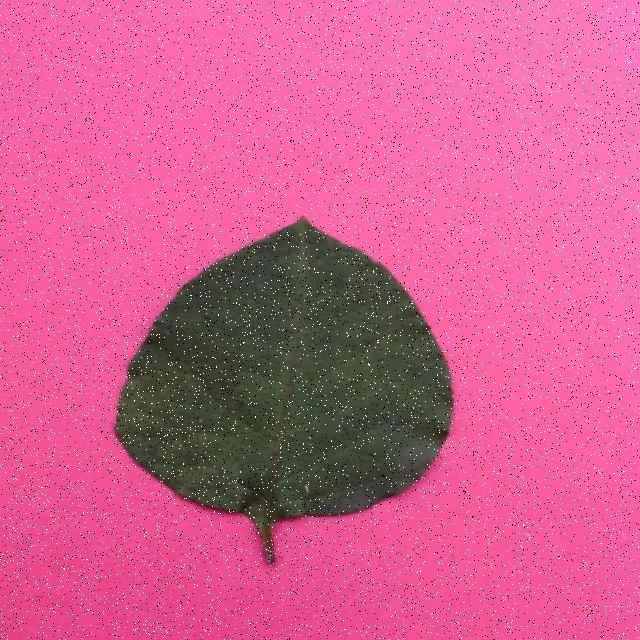foliage: (112, 214, 455, 566)
